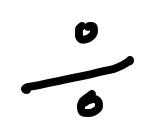div: (21, 21, 136, 117)
